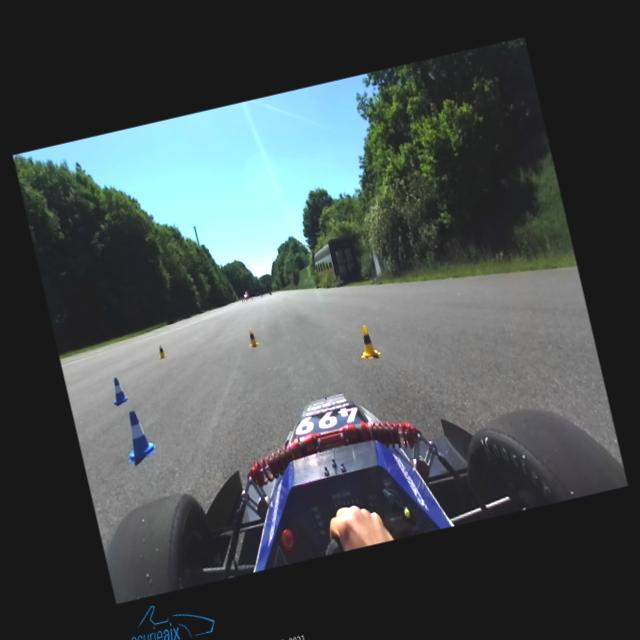blue_cone: (118, 407, 158, 462), (108, 376, 128, 406)
yellow_cone: (354, 322, 381, 360), (246, 328, 258, 347), (156, 344, 166, 358)
